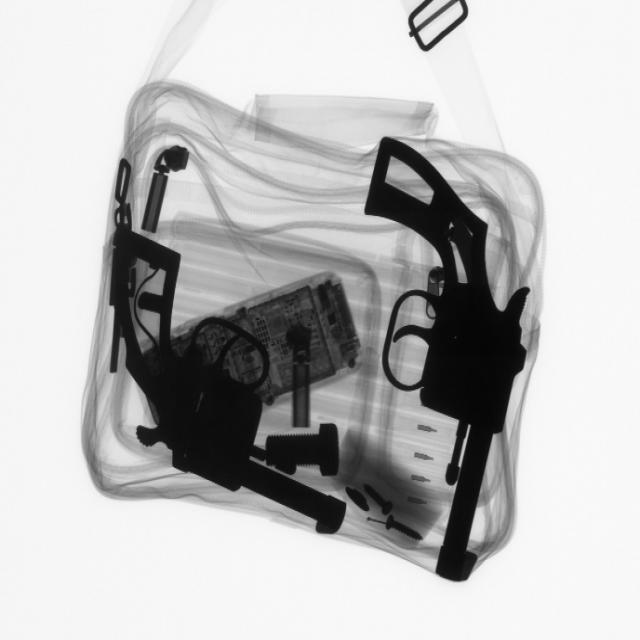GUN: (365, 134, 543, 584), (115, 240, 355, 536)
